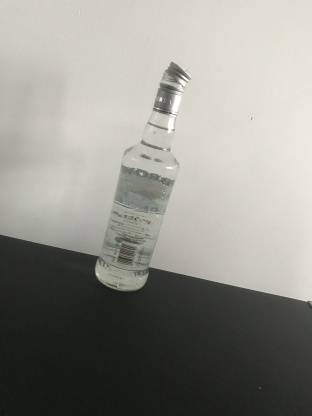nakretka: (151, 59, 192, 120)
